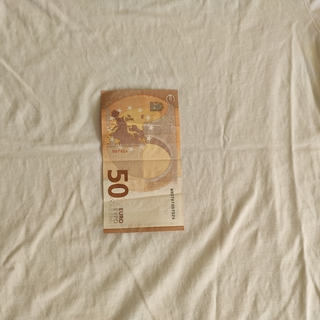50EUROBack: (100, 87, 185, 234)
